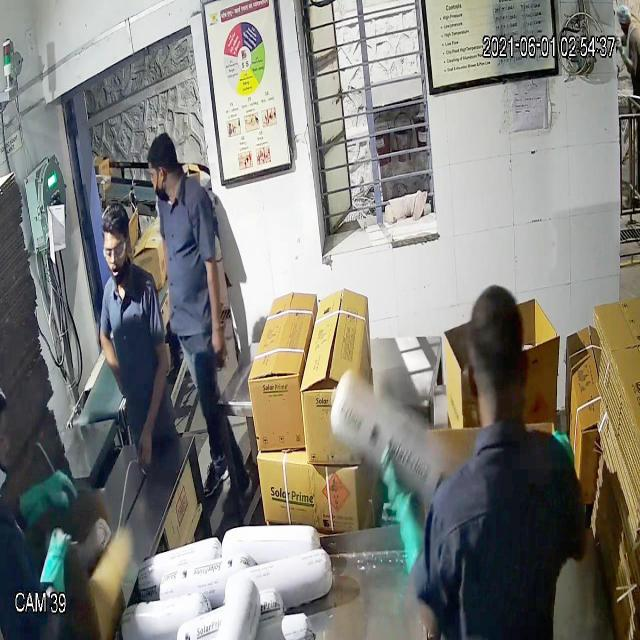glasses: (96, 231, 136, 270)
